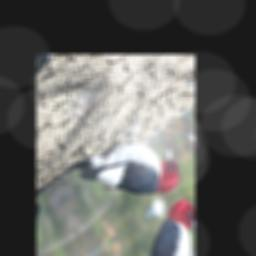Woodpecker: (68, 95, 185, 241)
